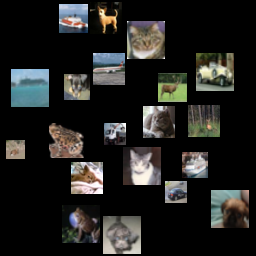airplane: (93, 53, 125, 85)
automobile: (196, 53, 234, 91), (165, 181, 187, 203)
cat: (123, 147, 161, 185), (127, 21, 165, 59), (143, 106, 175, 138)
deer: (188, 105, 220, 137), (158, 73, 187, 102), (6, 140, 25, 159)
dog: (103, 216, 141, 254), (211, 190, 249, 228), (90, 2, 122, 34), (71, 162, 103, 194), (64, 74, 90, 100)
frog: (62, 205, 100, 243), (49, 123, 84, 158)
ship: (11, 69, 49, 107), (59, 4, 88, 33), (182, 152, 208, 178)
